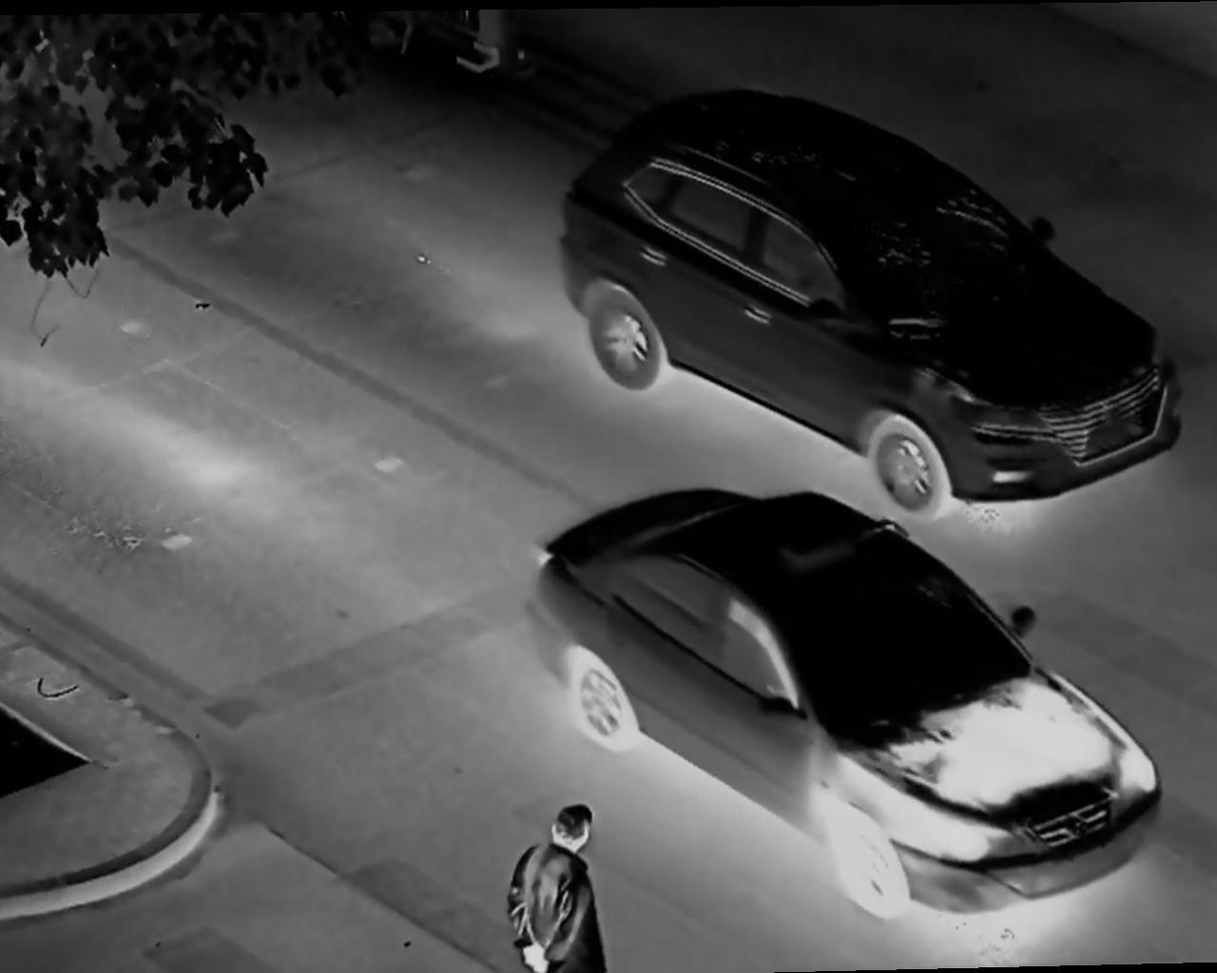person: (498, 801, 613, 973)
